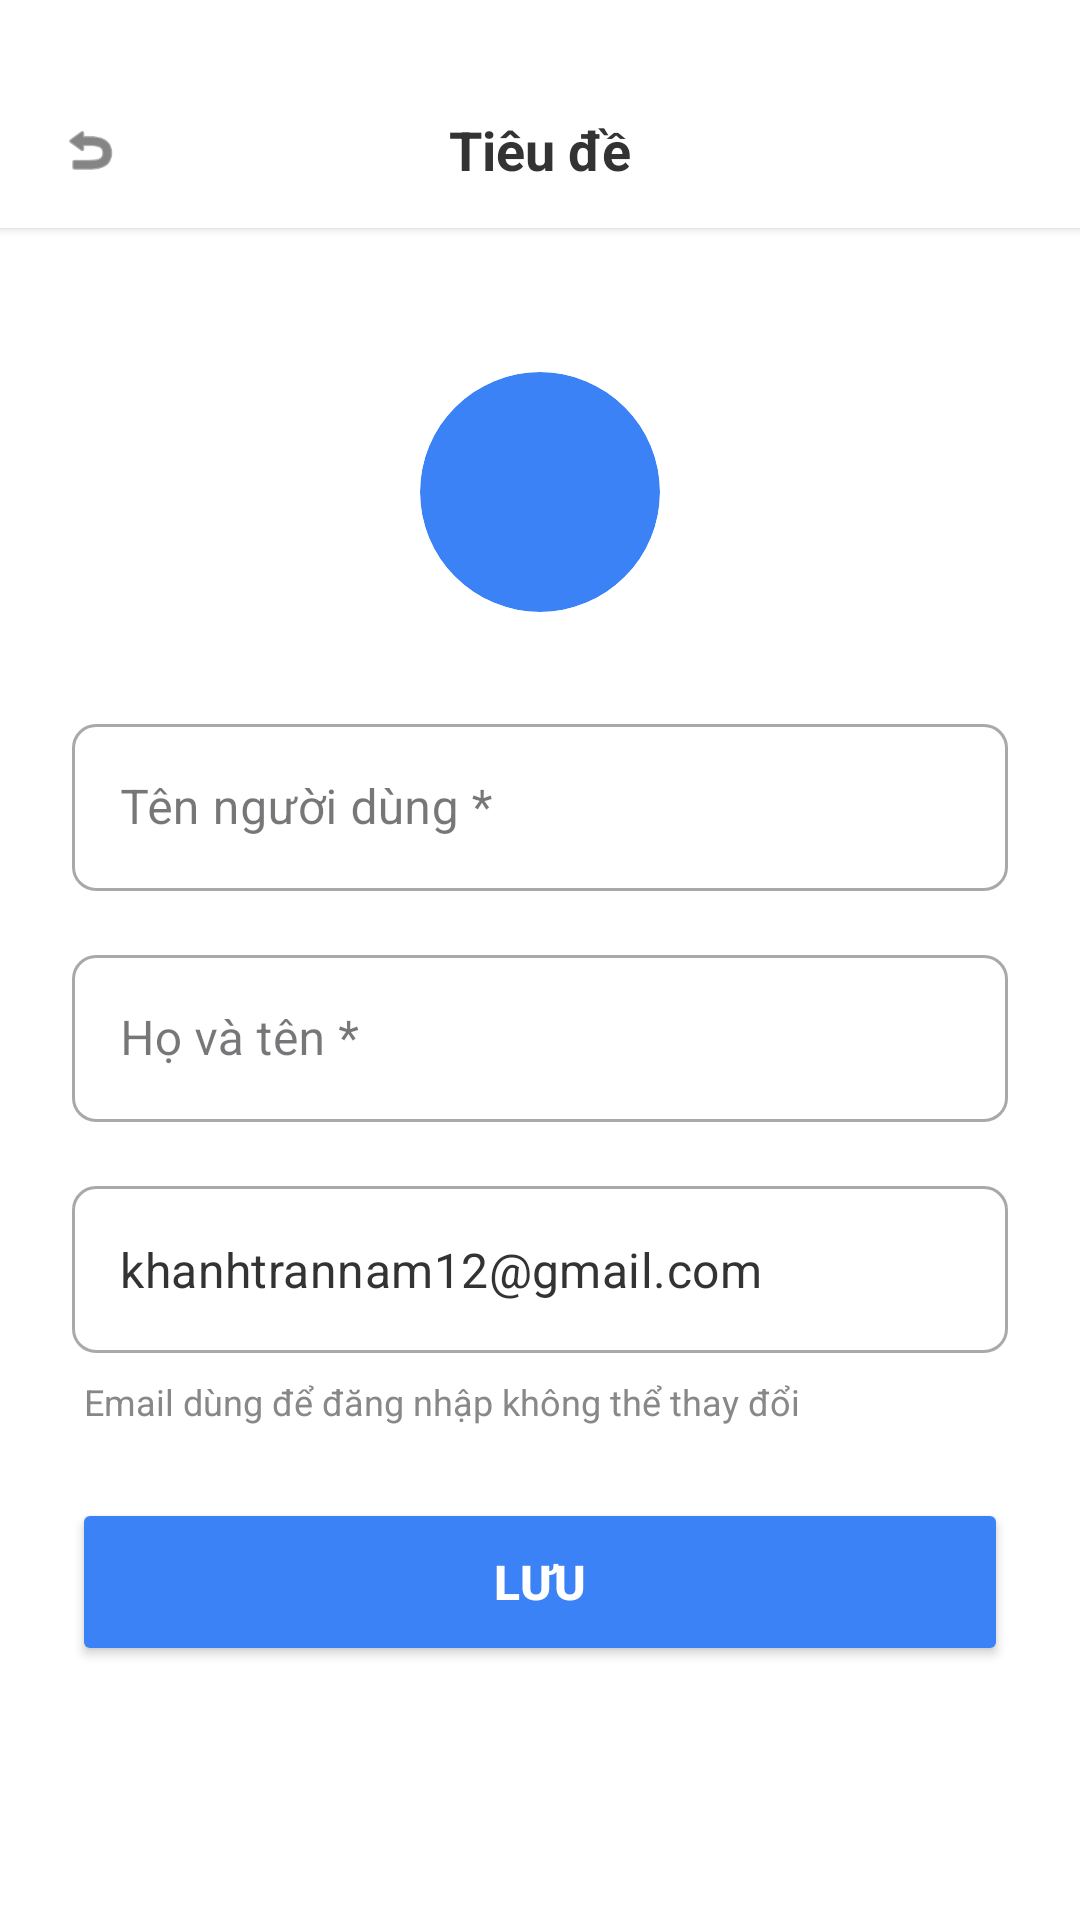

Screen size 1080*1920. Icon name, then its box in pixels as (x1, y1, x2, y2):
revert: (69, 131, 112, 170)
